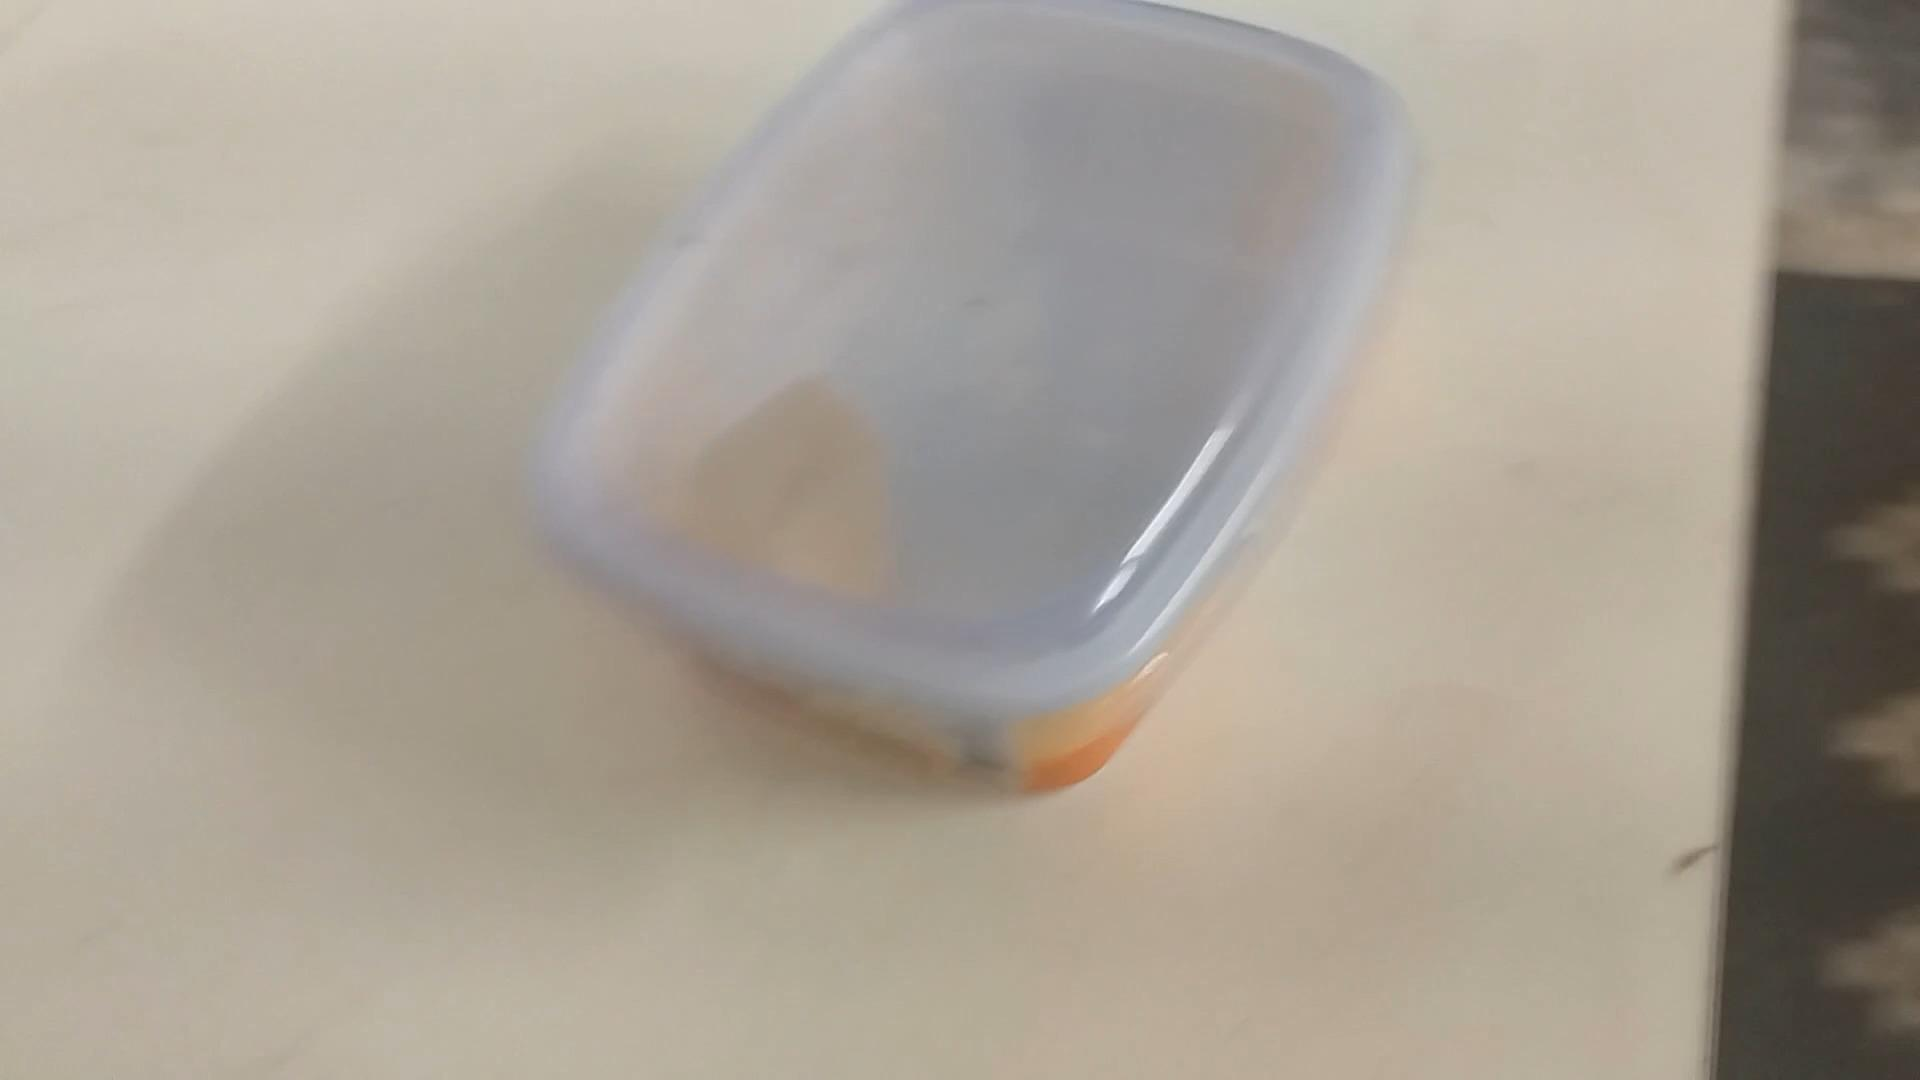butter: (506, 0, 1437, 811)
